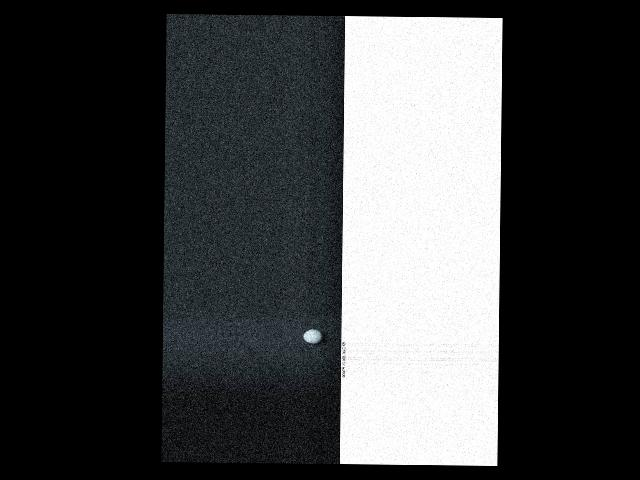egg: (303, 329, 322, 344)
